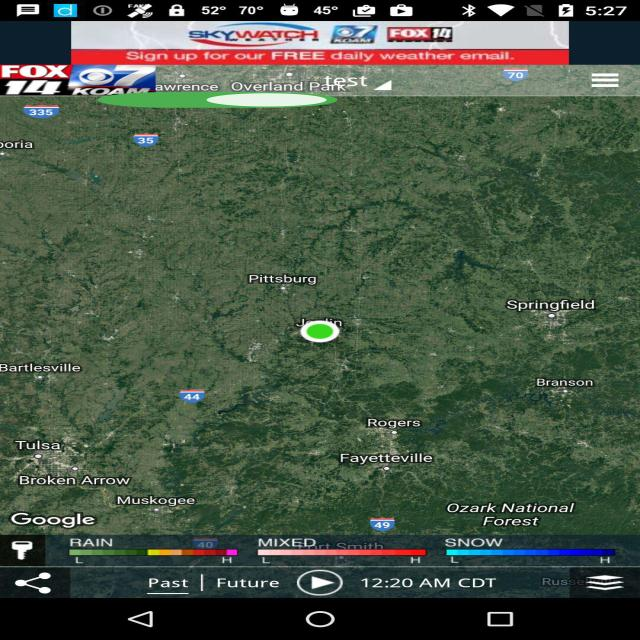social proof: (86, 86, 348, 115)
